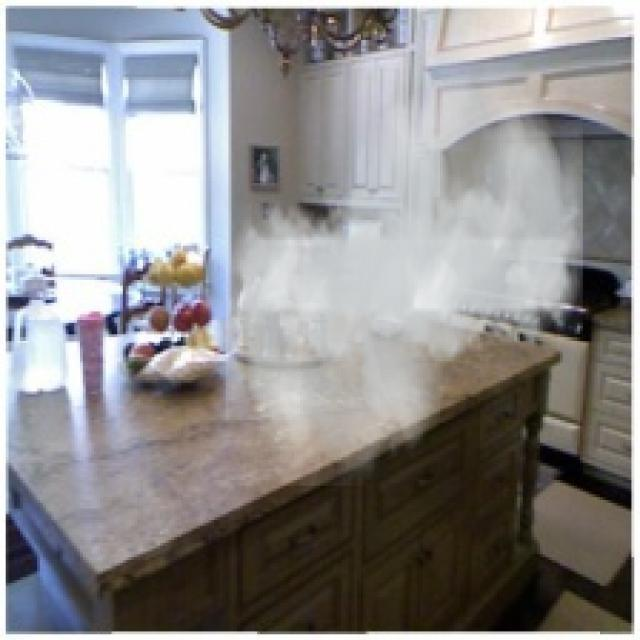Smoke: (226, 63, 583, 486)
